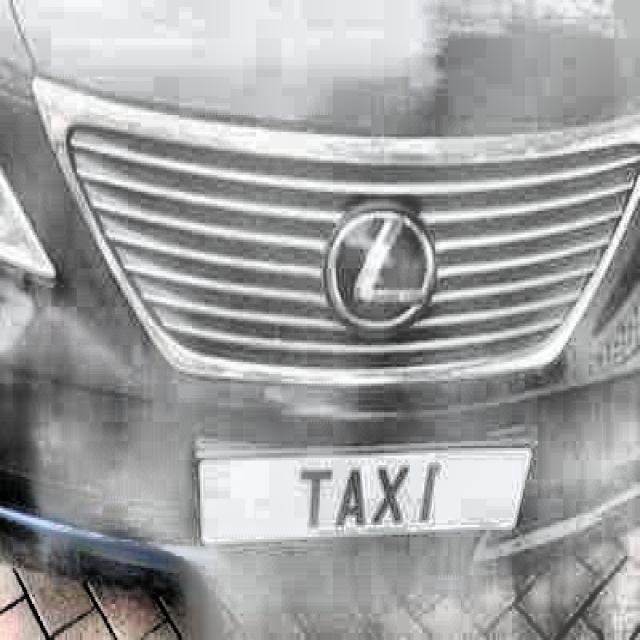license_plate: (202, 453, 533, 542)
